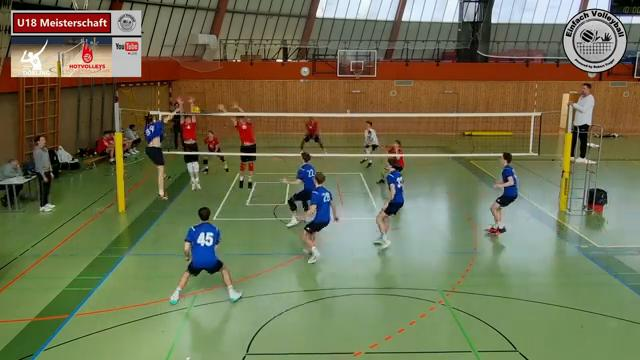attacco: (137, 101, 183, 206)
muro: (218, 97, 263, 194), (174, 94, 206, 194)
